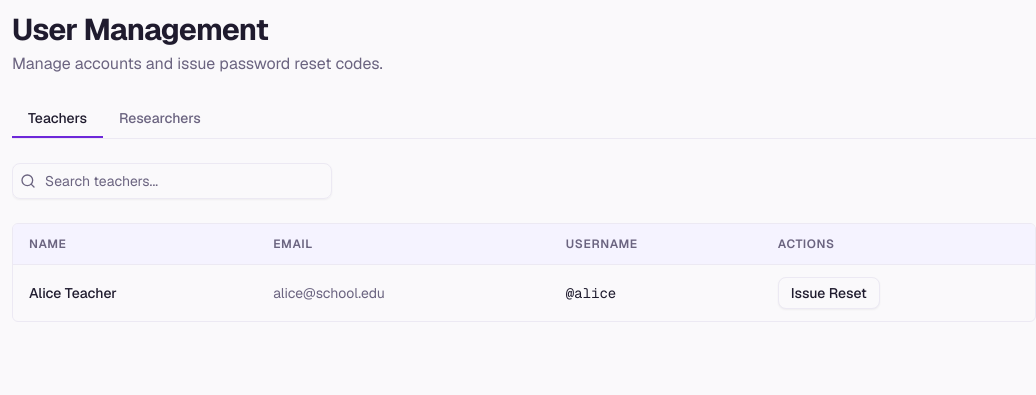
Test: StaffManagementView › filters researchers by search
Expected: the text "Alice Teacher" is shown, x1=13 y1=264 x2=257 y2=321
Step 1. Click the button "Researchers" → point(160, 119), box x1=103 y1=100 x2=217 y2=138
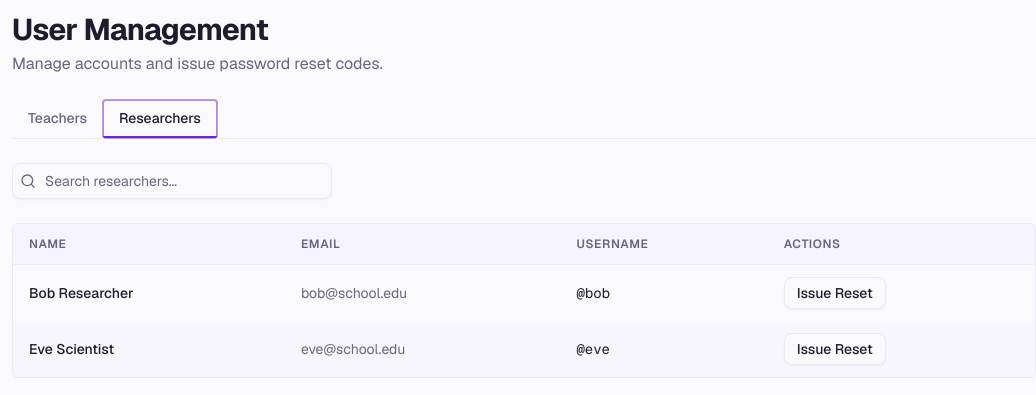
Expected: the text "Bob Researcher" is shown, x1=13 y1=264 x2=285 y2=321
Expected: the text "Eve Scientist" is shown, x1=13 y1=321 x2=285 y2=377
Step 2. Type "eve" into the field with placeholder "Search researchers..." → point(172, 181), box x1=12 y1=163 x2=332 y2=199
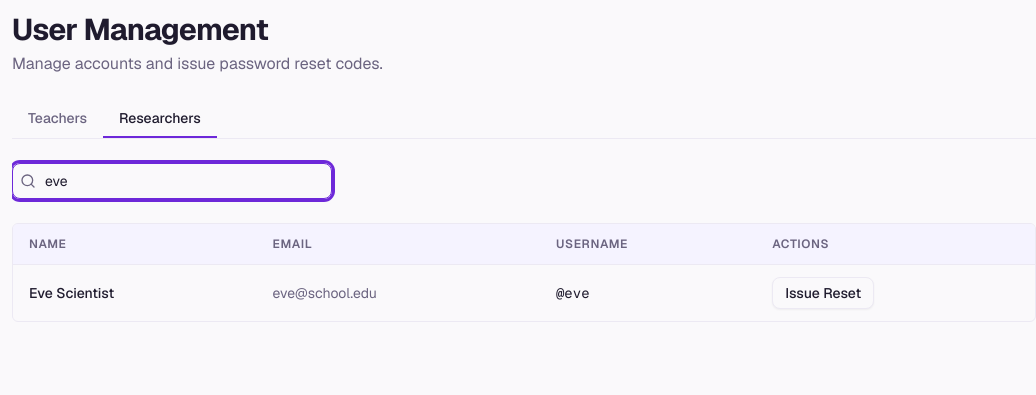
Expected: the text "Eve Scientist" is shown, x1=13 y1=264 x2=257 y2=321
Expected: the text "Bob Researcher" is gone
